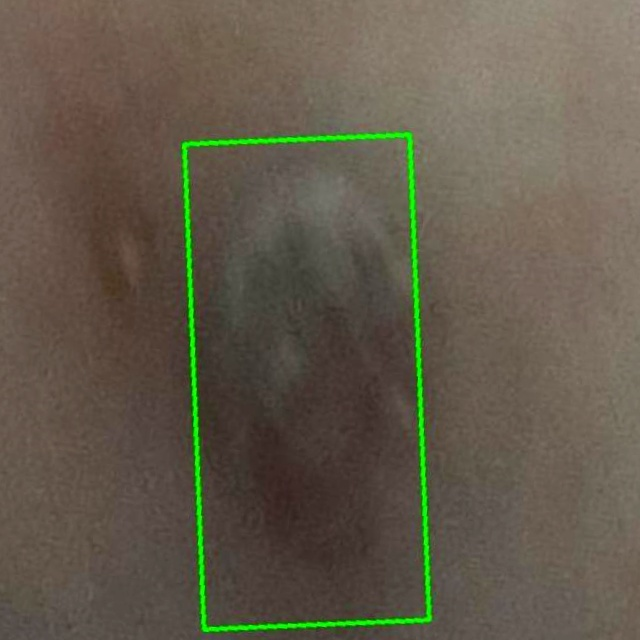Eczema: (185, 135, 429, 630)
